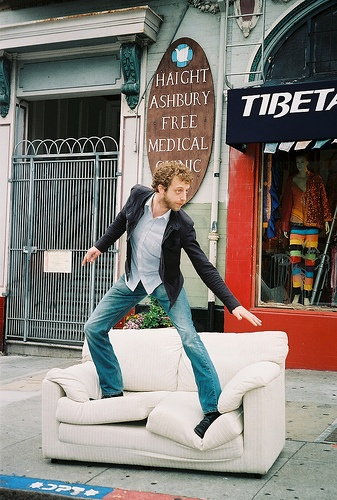head: (153, 161, 192, 214)
person: (76, 155, 262, 440)
